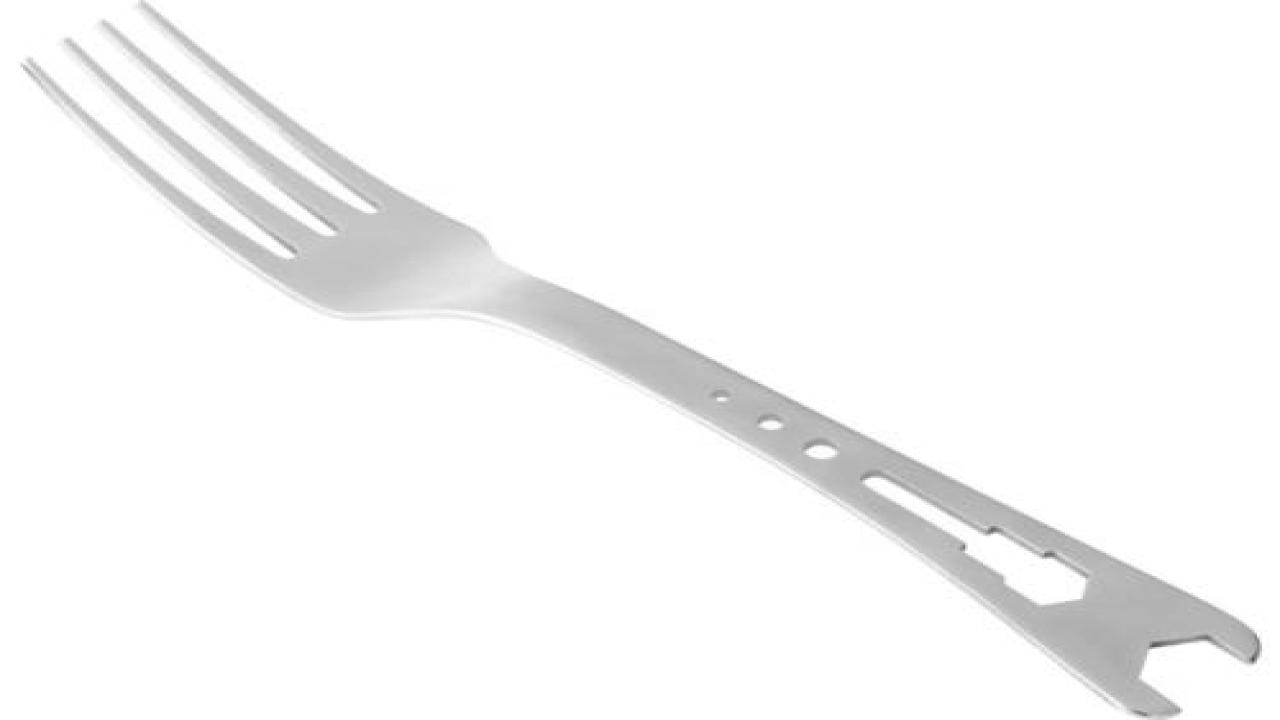fork: (18, 0, 1262, 718)
